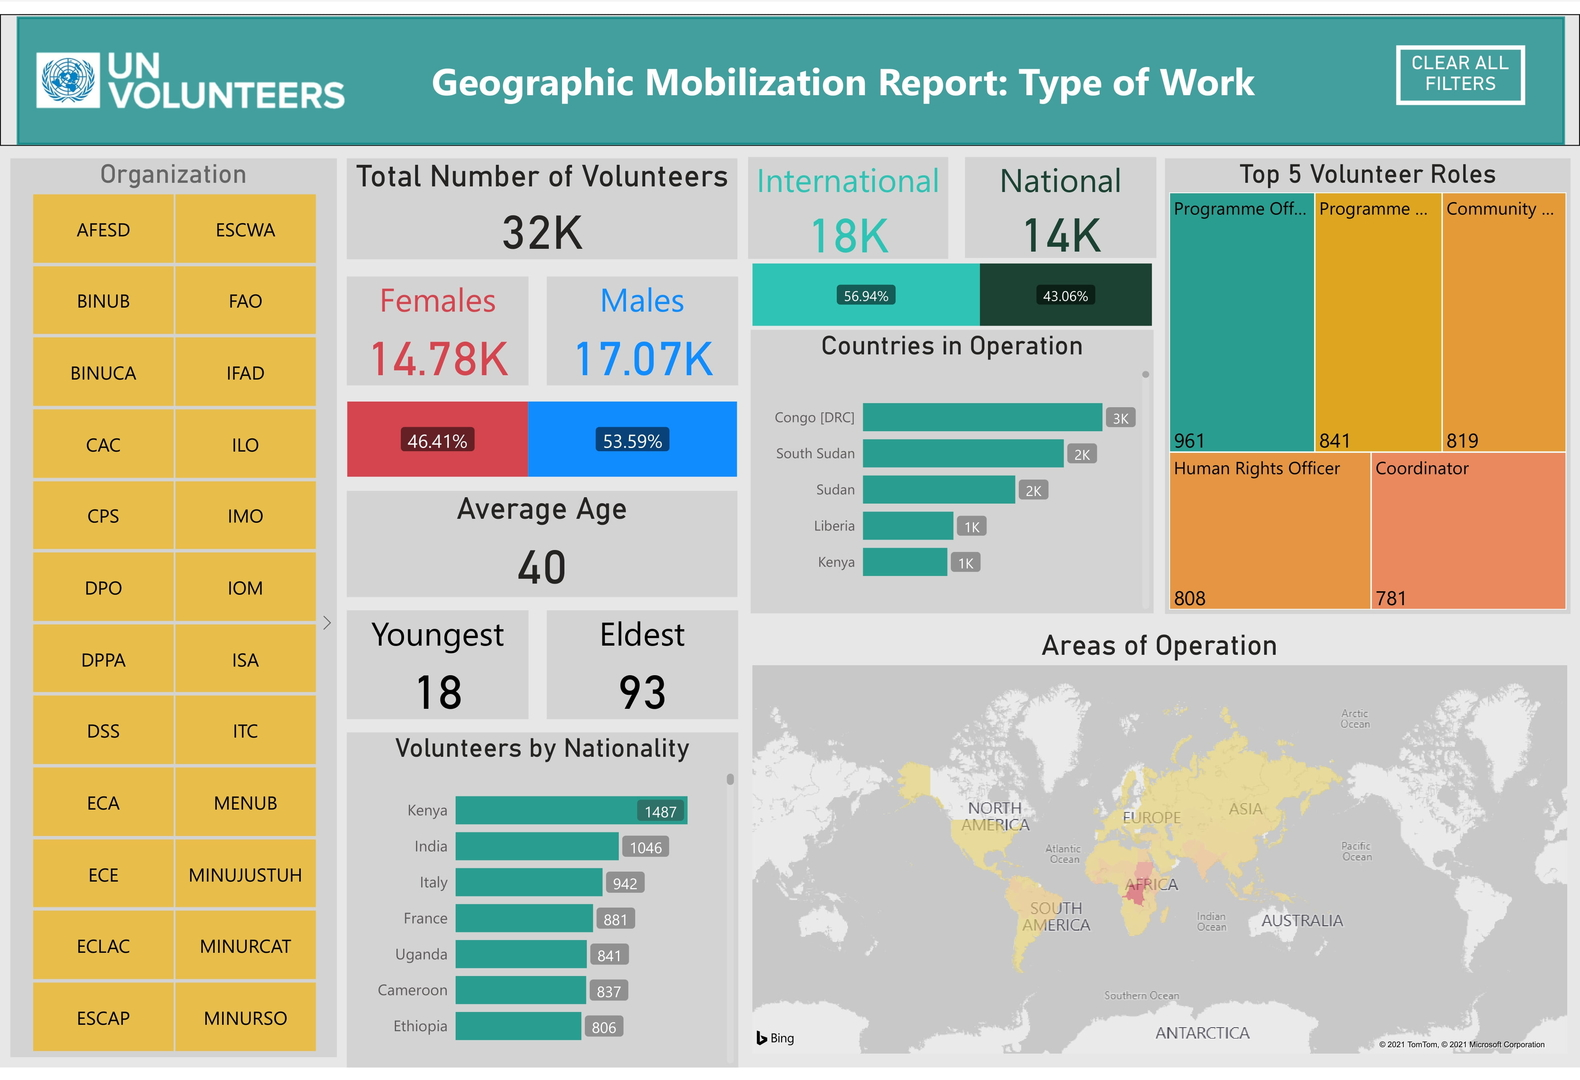

The dashboard page shown, as its layout file describes it:
{"tool":"powerbi","page":{"name":"Type of Work","canvas":[1800,1200],"ordinal":2},"visuals":[{"type":"group","id":"g1","title":"Group 1","box":[0,0,1800,149.6],"z":0},{"type":"basicShape","box":[0,0,1800,149.6],"z":0,"group":"g1"},{"type":"image","box":[32.6,0,367.2,149.5],"z":1000,"group":"g1"},{"type":"slicer","title":"Organization","fields":{"Values":["UN_Volunteer_Data.Organization"]},"box":[11.9,164.4,371.9,1023.7],"z":1000},{"type":"card","title":"Total Number of Volunteers","fields":{"Values":["UN_Volunteer_Data.Volunteer Count"]},"box":[395.6,163.7,445.4,115.4],"z":2000},{"type":"card","title":"Males","fields":{"Values":["Measures List.Male Count"]},"box":[623.4,298.3,217.5,124.3],"z":3000},{"type":"card","title":"Females","fields":{"Values":["Measures List.Female Count"]},"box":[395.6,298.3,207.2,124.3],"z":4000},{"type":"hundredPercentStackedBarChart","fields":{"Y":["Measures List.Volunteer Count"],"Series":["UN_Volunteer_Data.Gender"]},"box":[391.1,313.1,454.3,338.8],"z":5000},{"type":"card","title":"Average Age","fields":{"Values":["Measures List.Avg Age"]},"box":[395.6,542.4,445.4,121.3],"z":6000},{"type":"card","title":"Youngest","fields":{"Values":["Measures List.Young Age"]},"box":[395.6,678.6,207.2,124.3],"z":7000},{"type":"card","title":"Eldest","fields":{"Values":["Measures List.Elder Age"]},"box":[623.4,678.6,217.5,124.3],"z":8000},{"type":"clusteredBarChart","title":"Volunteers by Nationality","fields":{"Category":["UN_Volunteer_Data.Nationality"],"Y":["CountNonNull(UN_Volunteer_Data.Volunteer Id)"]},"box":[395.6,817.8,445.9,382.2],"z":9000},{"type":"card","title":"International","fields":{"Values":["Measures List.International"]},"box":[851.9,163,228.1,115.6],"z":10000},{"type":"card","title":"National","fields":{"Values":["Measures List.National"]},"box":[1099.6,162.5,217.5,115.4],"z":11000},{"type":"hundredPercentStackedBarChart","fields":{"Y":["Measures List.Volunteer Count"],"Series":["UN_Volunteer_Data.Assignment Type"]},"box":[851.9,176.3,465.2,284.4],"z":12000},{"type":"treemap","title":"Top 5 Volunteer Roles","fields":{"Values":["Measures List.Volunteer Count"],"Group":["UN_Volunteer_Data.Job Title"]},"box":[1327.4,164.4,462.2,518.5],"z":13000},{"type":"clusteredBarChart","title":"Countries in Operation","fields":{"Y":["CountNonNull(UN_Volunteer_Data.Volunteer Id)"],"Category":["UN_Volunteer_Data.Country"]},"box":[854.8,360,459.3,323],"z":14000},{"type":"filledMap","title":"Areas of Operation","fields":{"Category":["UN_Volunteer_Data.Country"]},"box":[851.9,699.3,937.8,488.9],"z":15000},{"type":"actionButton","box":[1591.1,35.6,146.7,68.1],"z":15001},{"type":"textbox","box":[487.4,41.5,979.3,74.1],"z":18000,"group":"g1"}]}

Visuals, with their boxes in screenshot pixels (x1, y1, x2, y2), scaled from the page's 1800x1200 canvas onto the 1580x1080 screenshot:
"Group 1" group: <box>0,0,1579,135</box>
basicShape: <box>0,0,1579,135</box>
image: <box>29,0,351,135</box>
"Organization" slicer: <box>10,148,337,1069</box>
"Total Number of Volunteers" card: <box>347,147,738,251</box>
"Males" card: <box>547,268,738,380</box>
"Females" card: <box>347,268,529,380</box>
hundredPercentStackedBarChart - Measures List.Volunteer Count x UN_Volunteer_Data.Gender: <box>343,282,742,587</box>
"Average Age" card: <box>347,488,738,597</box>
"Youngest" card: <box>347,611,529,723</box>
"Eldest" card: <box>547,611,738,723</box>
"Volunteers by Nationality" clusteredBarChart: <box>347,736,739,1079</box>
"International" card: <box>748,147,948,251</box>
"National" card: <box>965,146,1156,250</box>
hundredPercentStackedBarChart - Measures List.Volunteer Count x UN_Volunteer_Data.Assignment Type: <box>748,159,1156,415</box>
"Top 5 Volunteer Roles" treemap: <box>1165,148,1571,615</box>
"Countries in Operation" clusteredBarChart: <box>750,324,1153,615</box>
"Areas of Operation" filledMap: <box>748,629,1571,1069</box>
actionButton: <box>1397,32,1525,93</box>
textbox: <box>428,37,1287,104</box>
